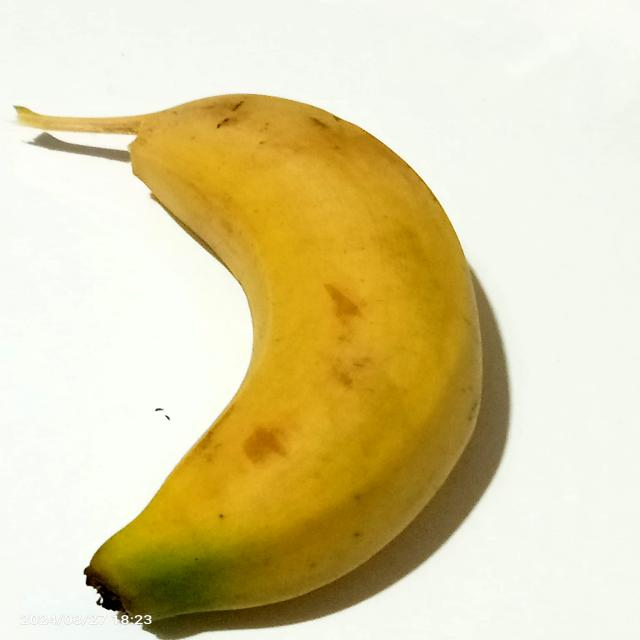banana: (3, 64, 496, 634)
